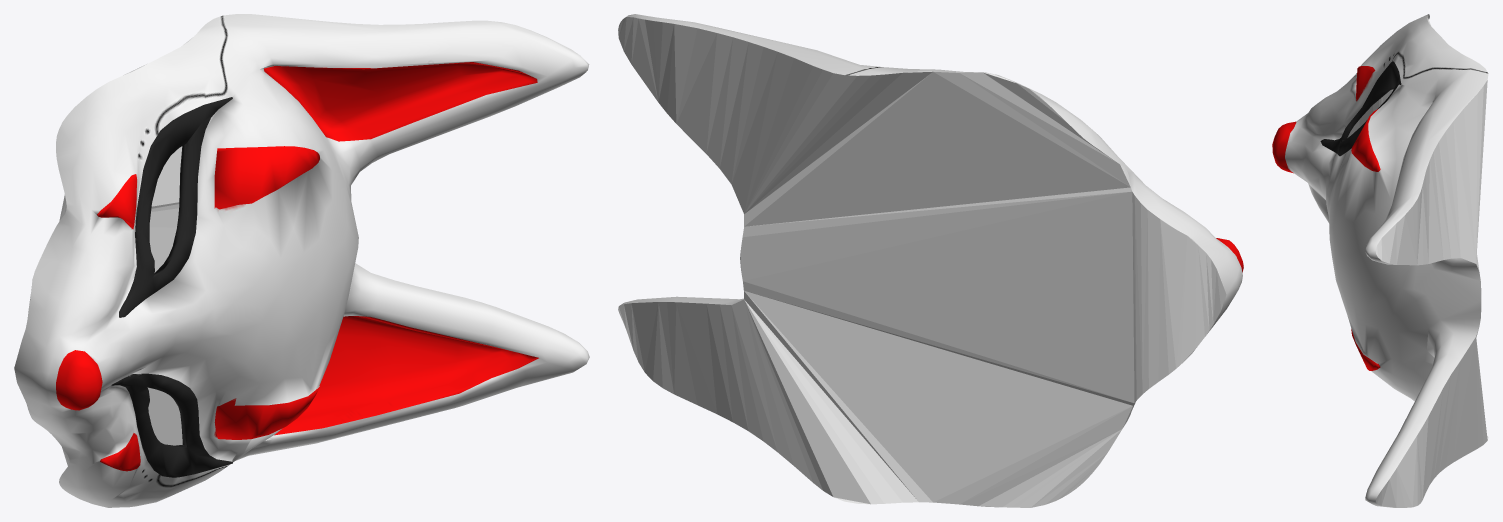
The model's file is F_KitsuneMask.fbx.
3 views of the same model, side by side, from view 1: azimuth 30°, elevation 25°; view 2: azimuth 150°, elevation 25°; view 3: azimuth 270°, elevation 25° (orthographic). The views are drawn at different scales.
Parts seen in each view (by area): view 1: Kitsune.001; view 2: Kitsune.001; view 3: Kitsune.001.
Part boxes in pixels (x1,y1,x2,y2): Kitsune.001: (14, 14, 589, 507); Kitsune.001: (618, 14, 1243, 507); Kitsune.001: (1272, 14, 1488, 507).
Bounding box in the file's own units: 0.1697 × 0.1202 × 0.0636.
